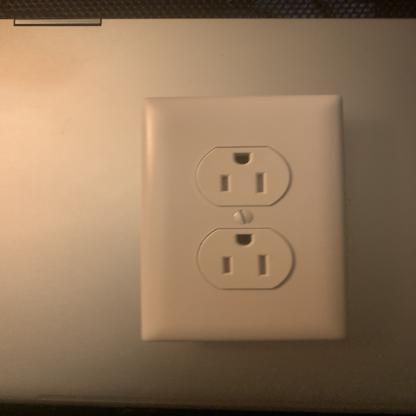OUTLET: (141, 93, 348, 340)
